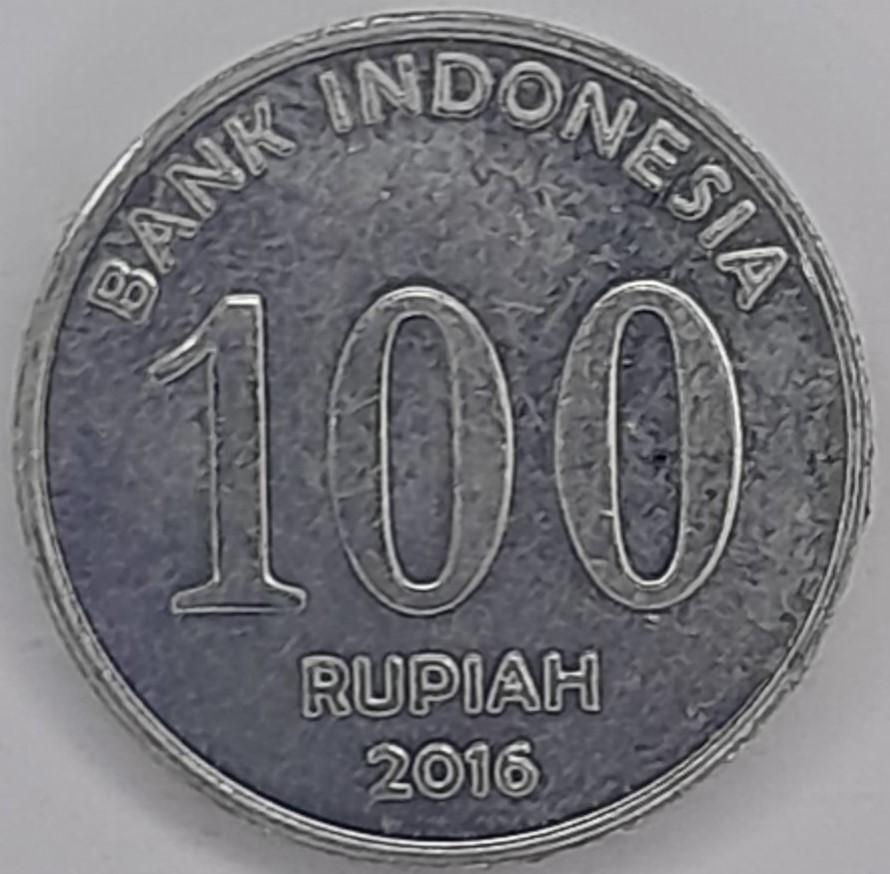coin_100_e2016: (5, 3, 880, 869)
